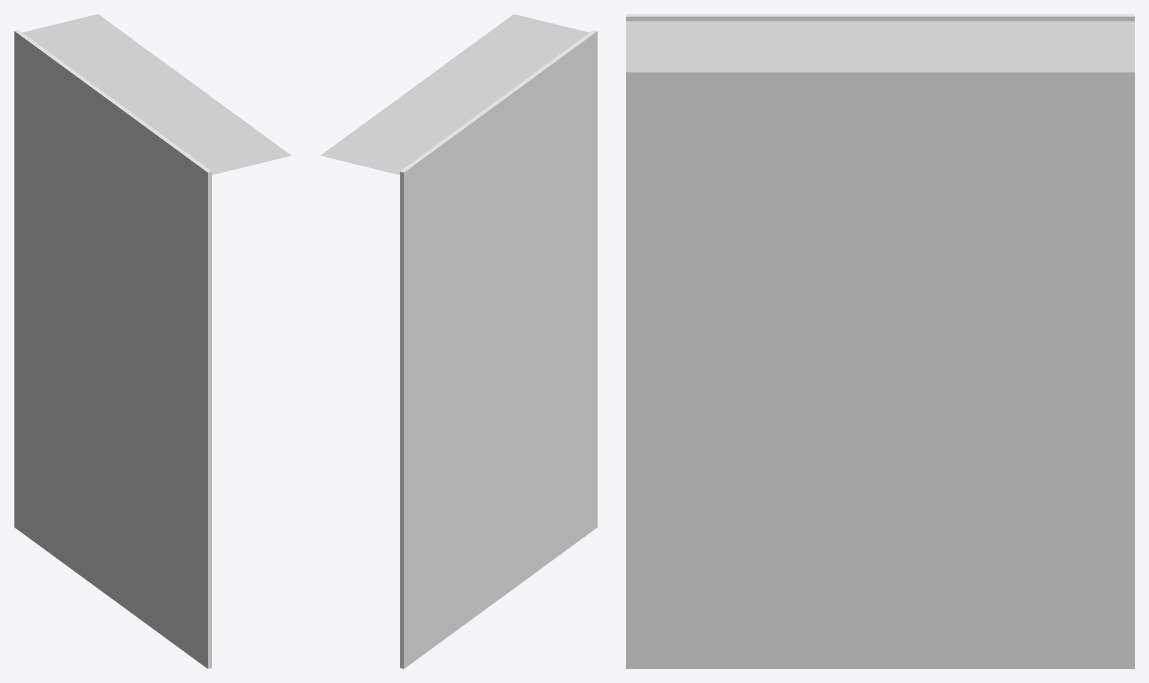
The model's file is waysmall.fbx.
The picture shows the model from 3 angles, left to right: view 1: azimuth 30°, elevation 25°; view 2: azimuth 150°, elevation 25°; view 3: azimuth 270°, elevation 25°; orthographic projection. The views are drawn at different scales.
Parts seen in each view (by area): view 1: Smallway; view 2: Smallway; view 3: Smallway.
Part boxes in pixels (bbox=[...]): Smallway: bbox=[14, 14, 291, 668]; Smallway: bbox=[320, 14, 597, 668]; Smallway: bbox=[626, 14, 1134, 668].
Size of the model in its own units: 100 by 566 by 400.
